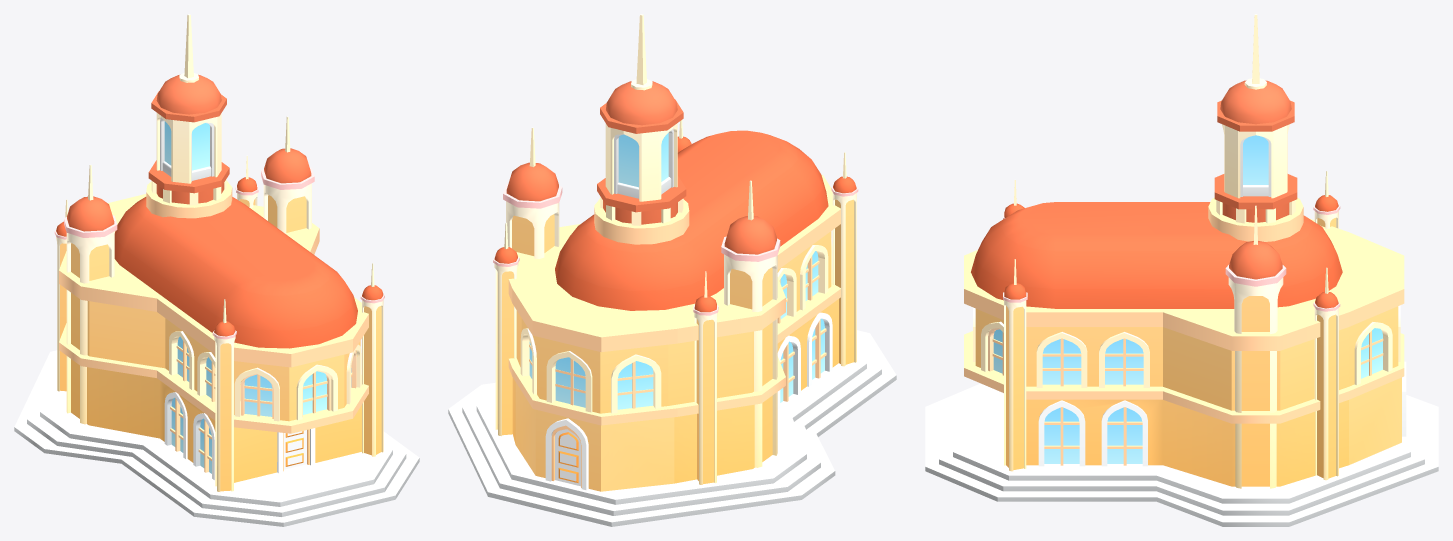
Rendered from Building_Temple_04.glb.
The picture shows the model from 3 angles, left to right: view 1: azimuth 30°, elevation 25°; view 2: azimuth 150°, elevation 25°; view 3: azimuth 270°, elevation 25°; orthographic projection. The views are drawn at different scales.
Parts seen in each view (by area): view 1: Building_Temple_04; view 2: Building_Temple_04; view 3: Building_Temple_04.
Boxes of the visible parts, <box> form: Building_Temple_04: <box>14,14,419,526</box>; Building_Temple_04: <box>448,14,896,526</box>; Building_Temple_04: <box>925,14,1438,526</box>.
Size of the model in its own units: 17.96 by 20.87 by 22.73.
Materials: 1 (1 with a texture image).
